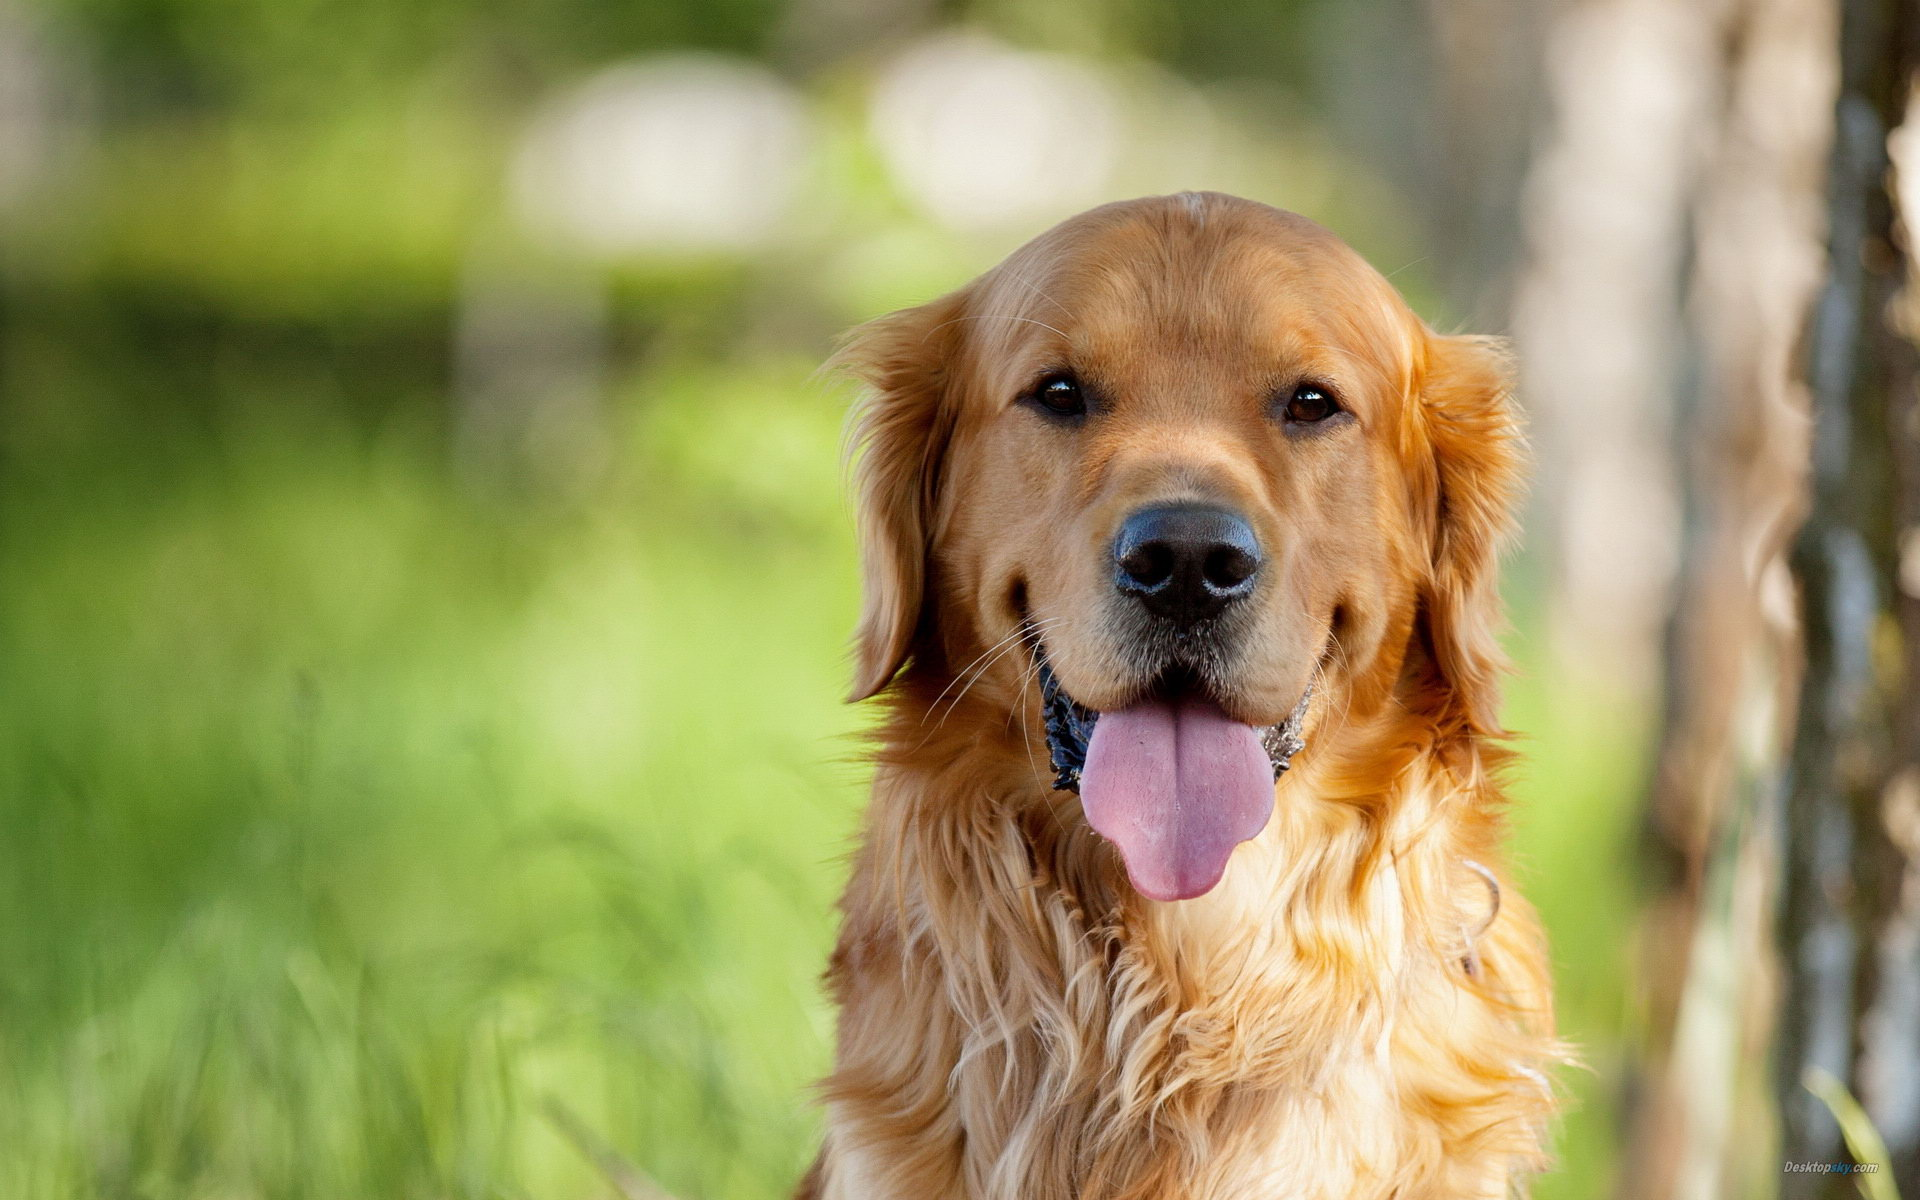dog: (751, 158, 1599, 1199)
golden-retriever: (753, 160, 1601, 1200)
